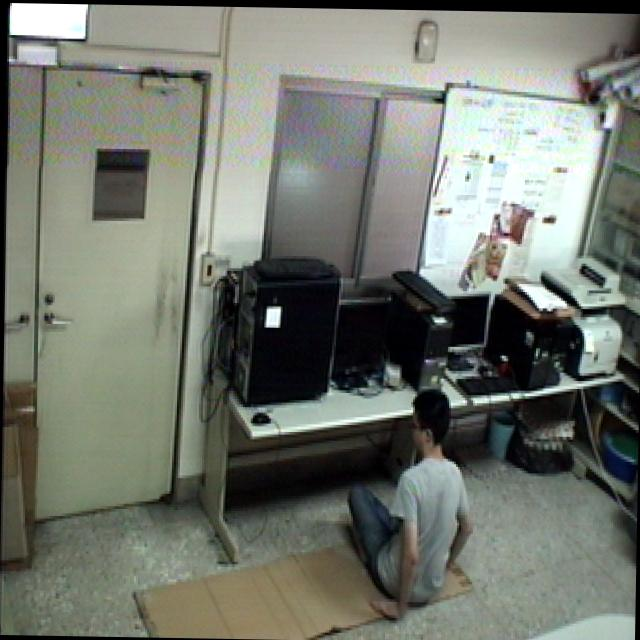sit: (336, 370, 481, 632)
